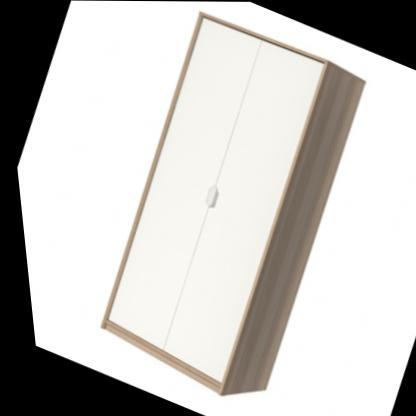Cabinet: (52, 2, 397, 416)
